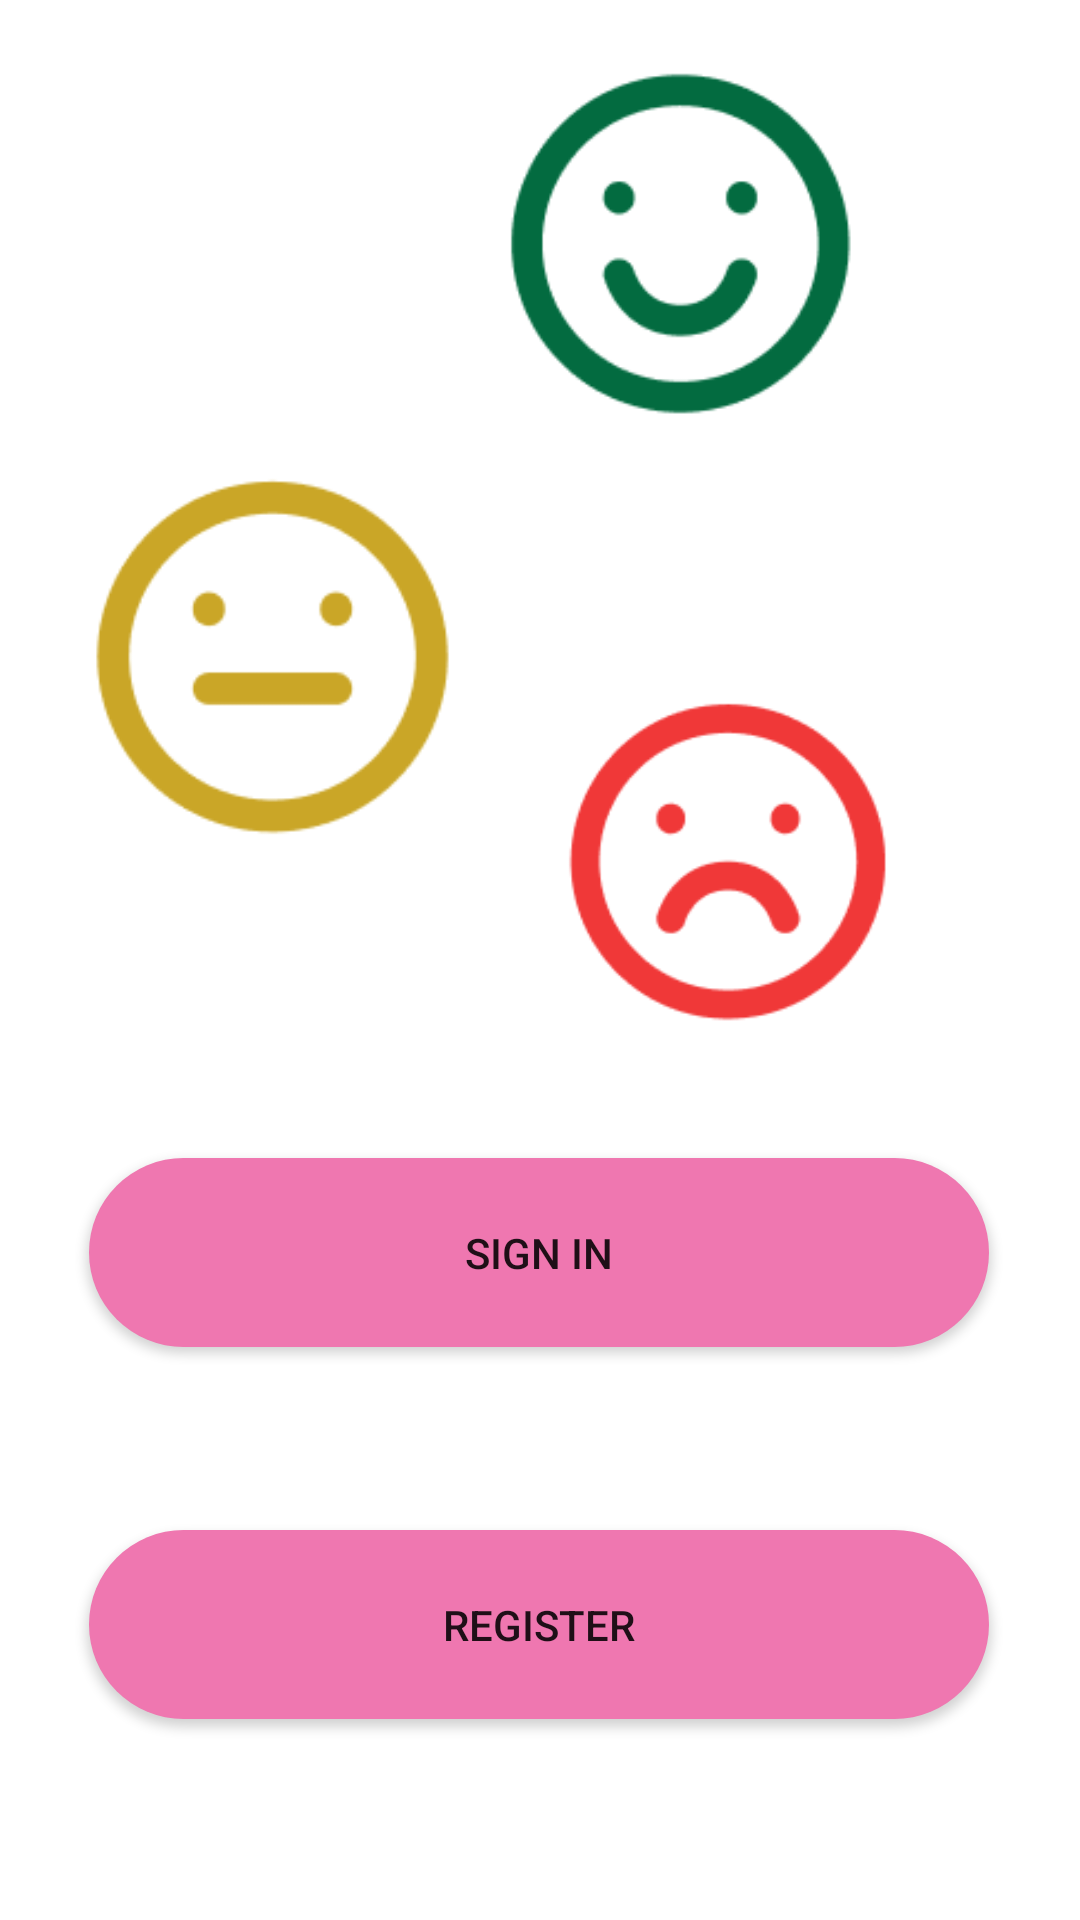

Icon bounding boxes for this 1080px x 1920px phone screenshot, format [x1, y1, x2, y2]:
iconface: [96, 480, 449, 834]
iconsad: [569, 703, 886, 1021]
iconsmile: [511, 73, 851, 414]
